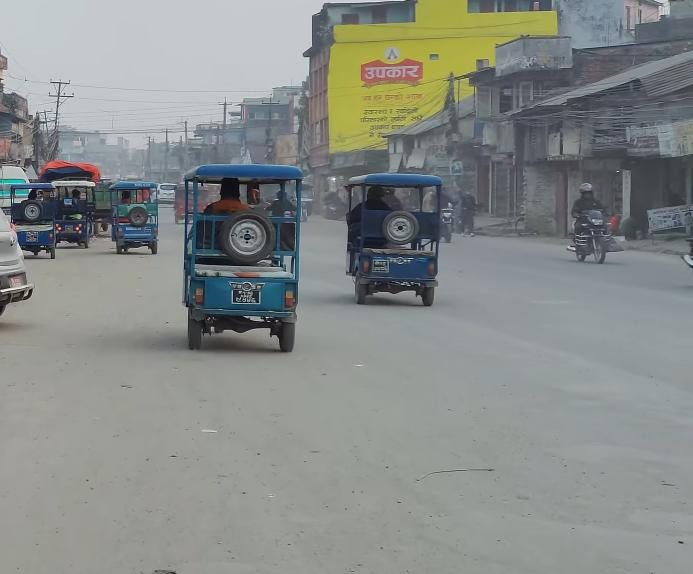bike: (568, 204, 614, 267)
e-rickshaw: (178, 158, 303, 360), (348, 174, 445, 315), (6, 182, 61, 262), (107, 179, 163, 256), (49, 177, 97, 249)
